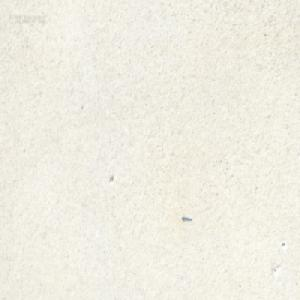Nail: (181, 214, 192, 221)
